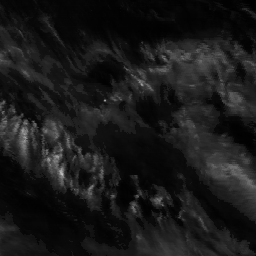Target: (102, 97, 107, 103)
